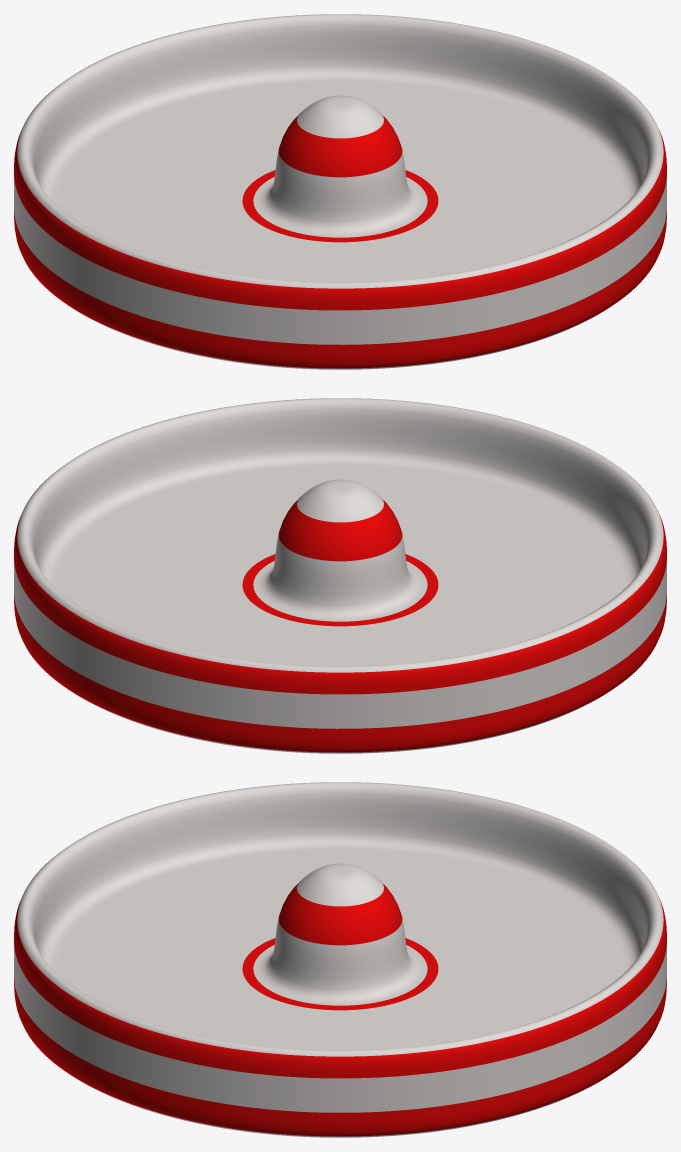
Rendered from FBX_StrawHat.fbx.
The picture shows the model from 3 angles, top to bottom: view 1: azimuth 30°, elevation 25°; view 2: azimuth 150°, elevation 25°; view 3: azimuth 270°, elevation 25°; orthographic projection.
Parts seen in each view (by area): view 1: StrawHat; view 2: StrawHat; view 3: StrawHat.
Boxes of the visible parts, x1,y1,x2,y2 form: StrawHat: (14, 14, 666, 369); StrawHat: (14, 398, 666, 753); StrawHat: (14, 782, 666, 1137).
Bounding box in the file's own units: 199 × 45 × 199.
